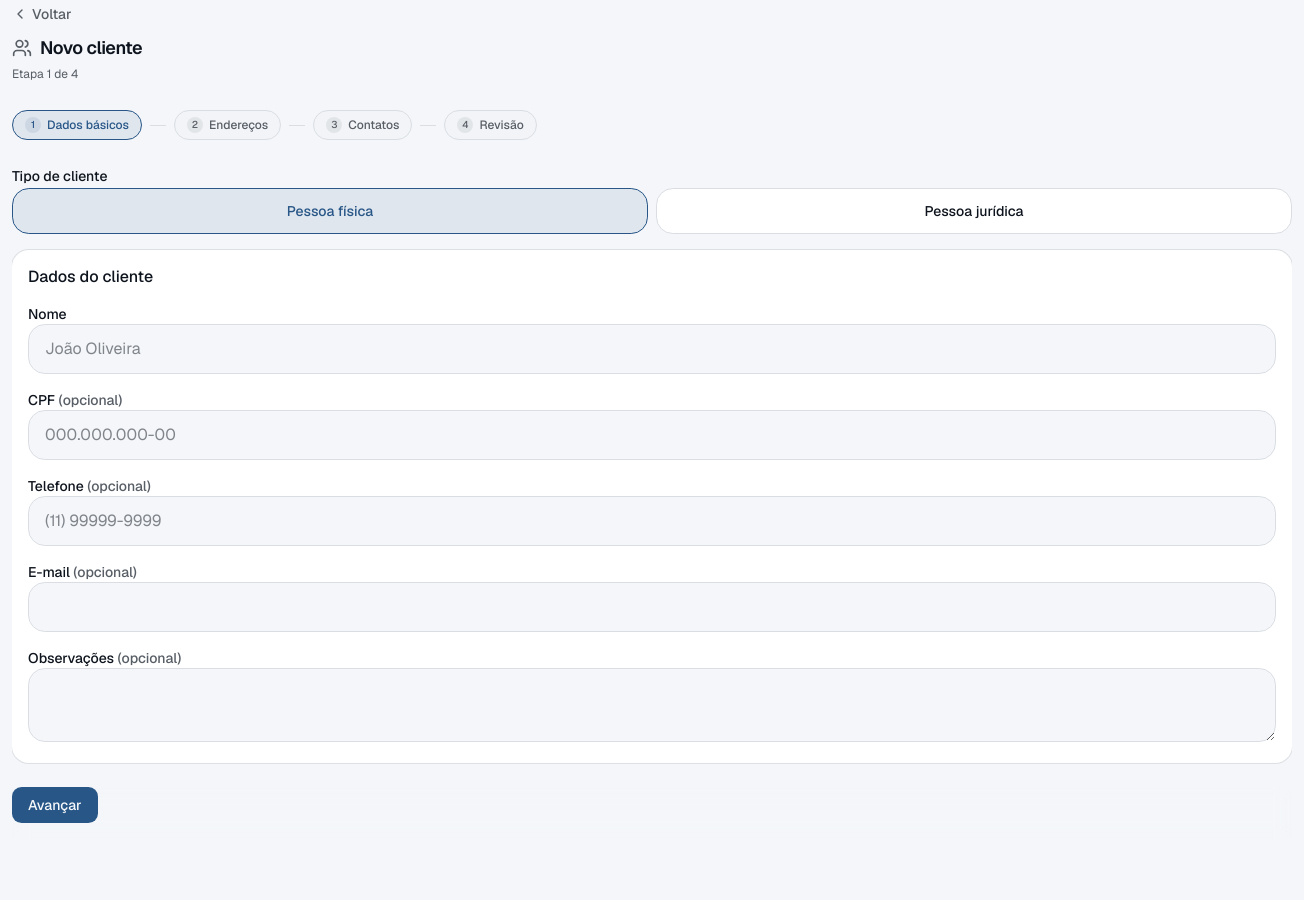
Test: CustomerCreateForm (4-step wizard) › step flow › a forward stepper-jump blocks on step 1 if name was cleared after visiting later steps
In the field labelled "Nome": (652, 349) [28, 324, 1276, 374], type "Maria Cliente"
Click the button "Avançar": (55, 805) [12, 787, 98, 823]
(page scrolled)
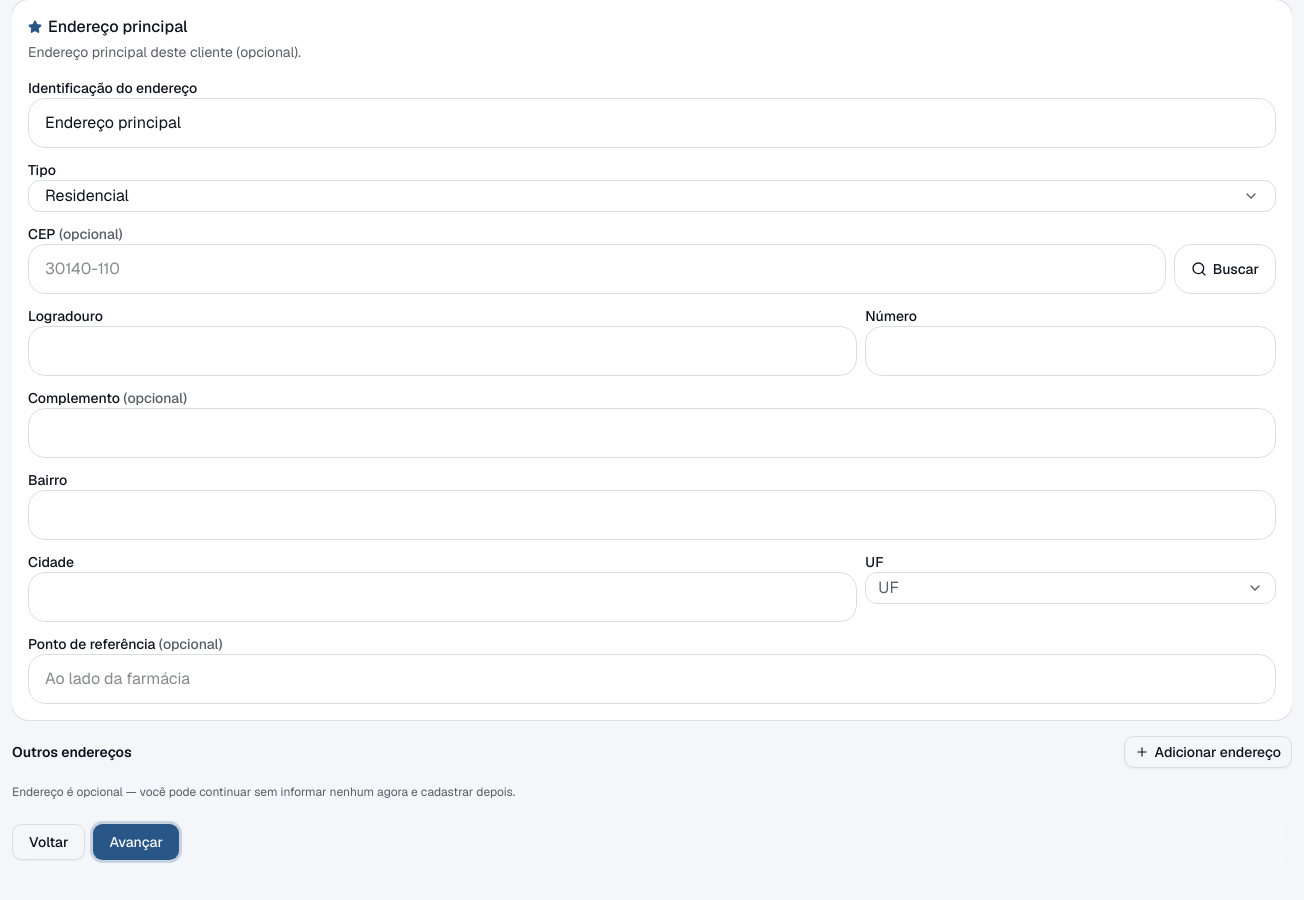
Click the button "Avançar": (136, 842) [94, 824, 179, 860]
(page scrolled)
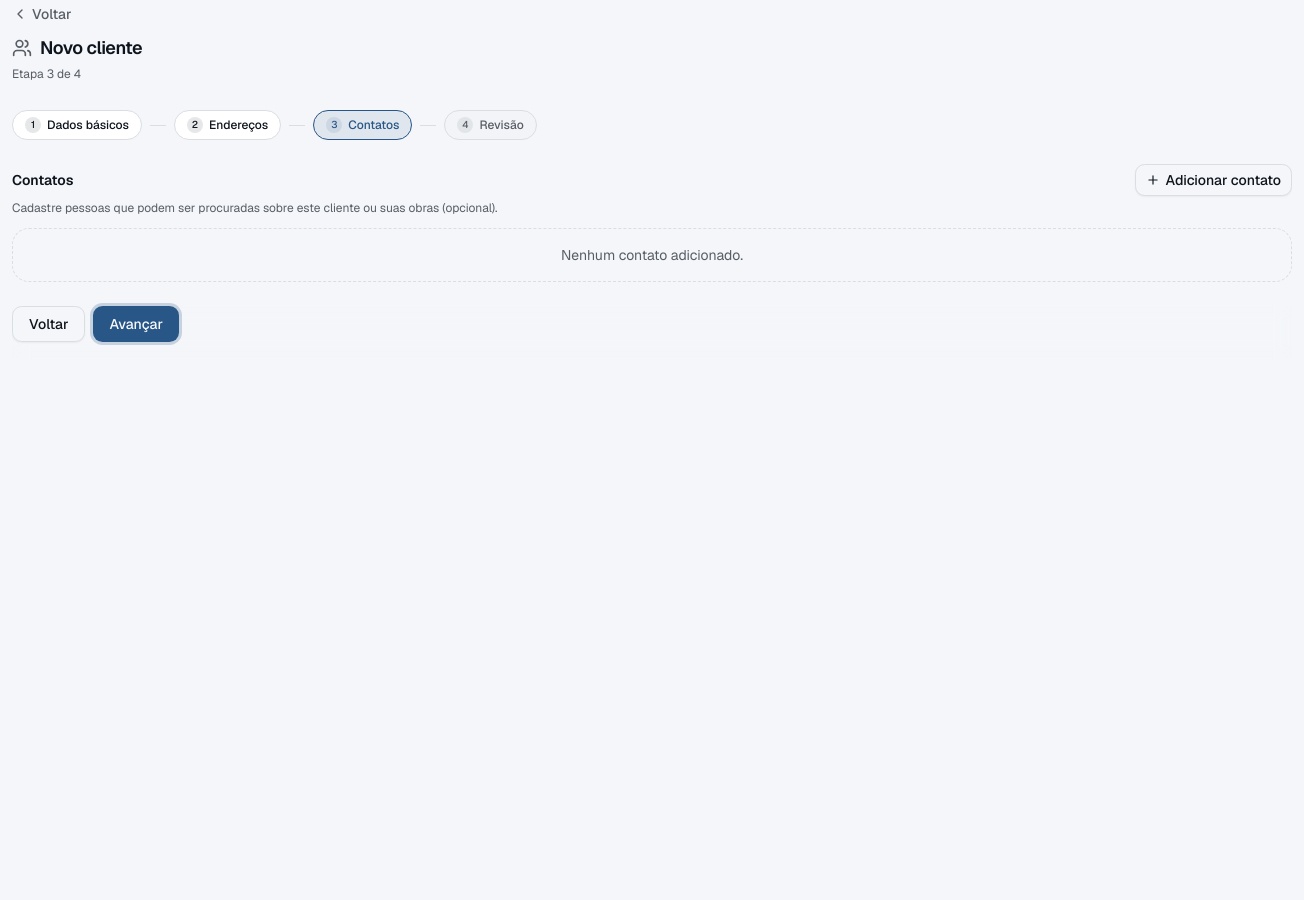
Click the button "Avançar": (136, 324) [94, 306, 179, 342]
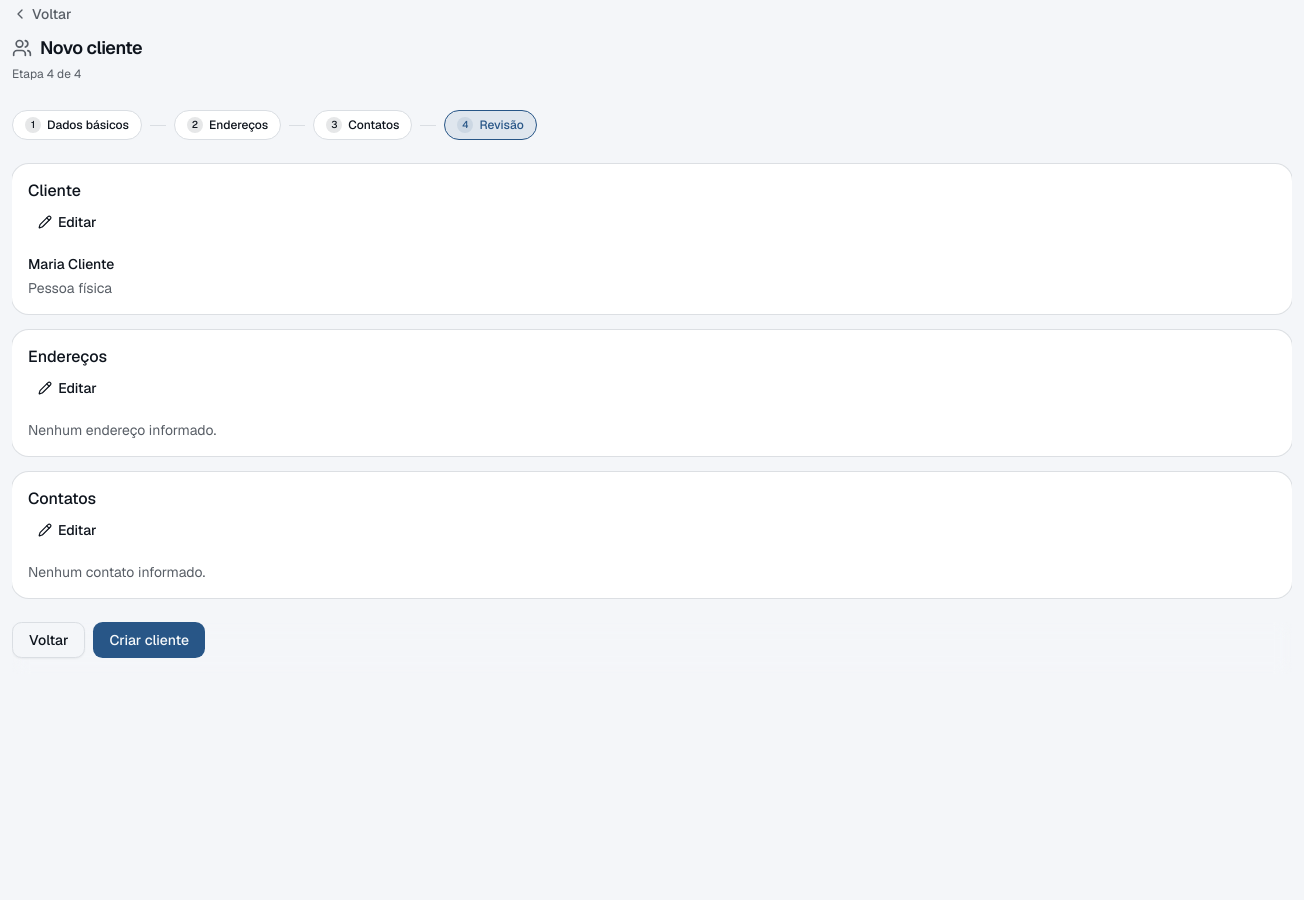
Click the button "1 Dados básicos": (77, 125) [12, 110, 142, 140]
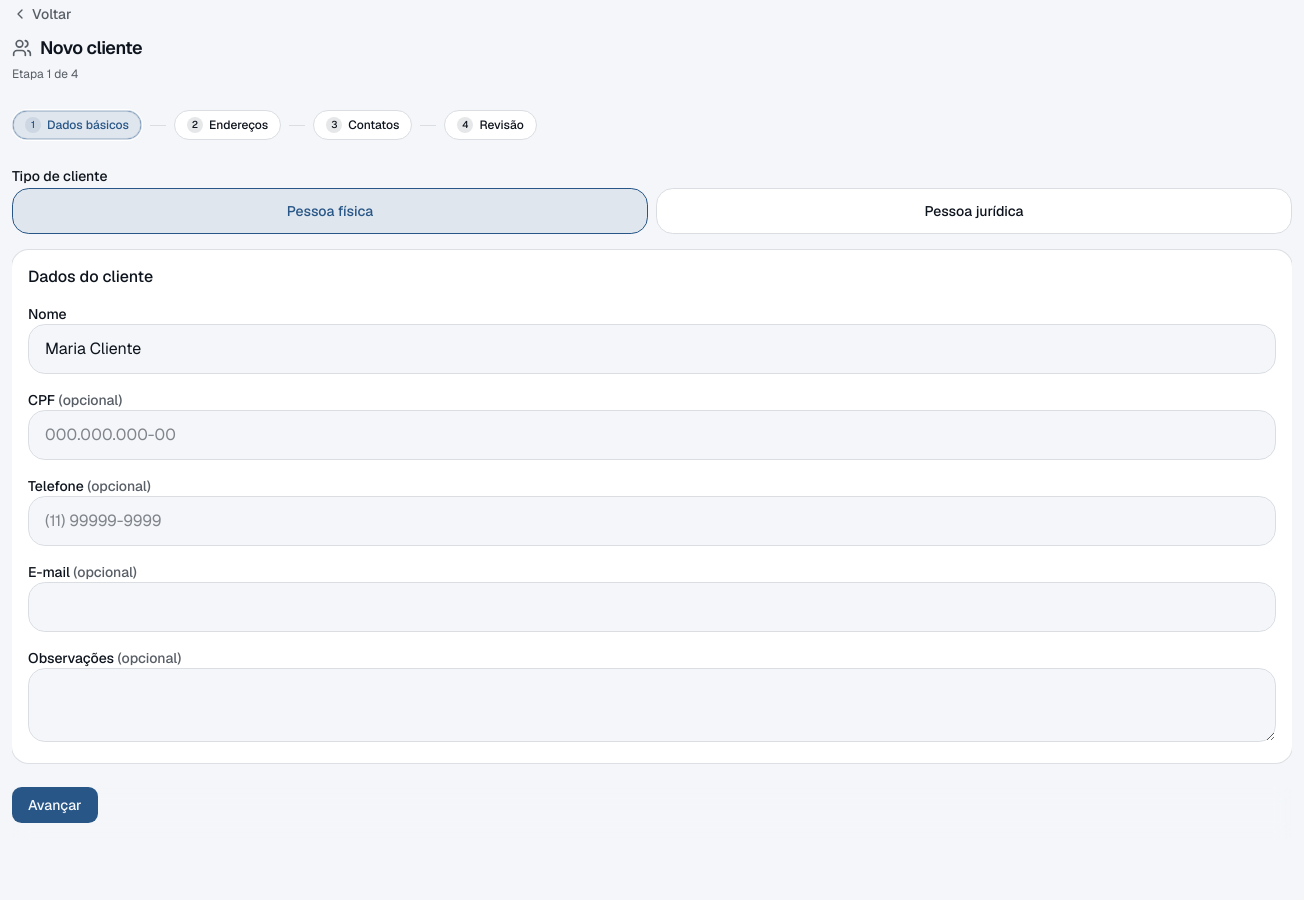
Clear the field labelled "Nome": (652, 349) [28, 324, 1276, 374]
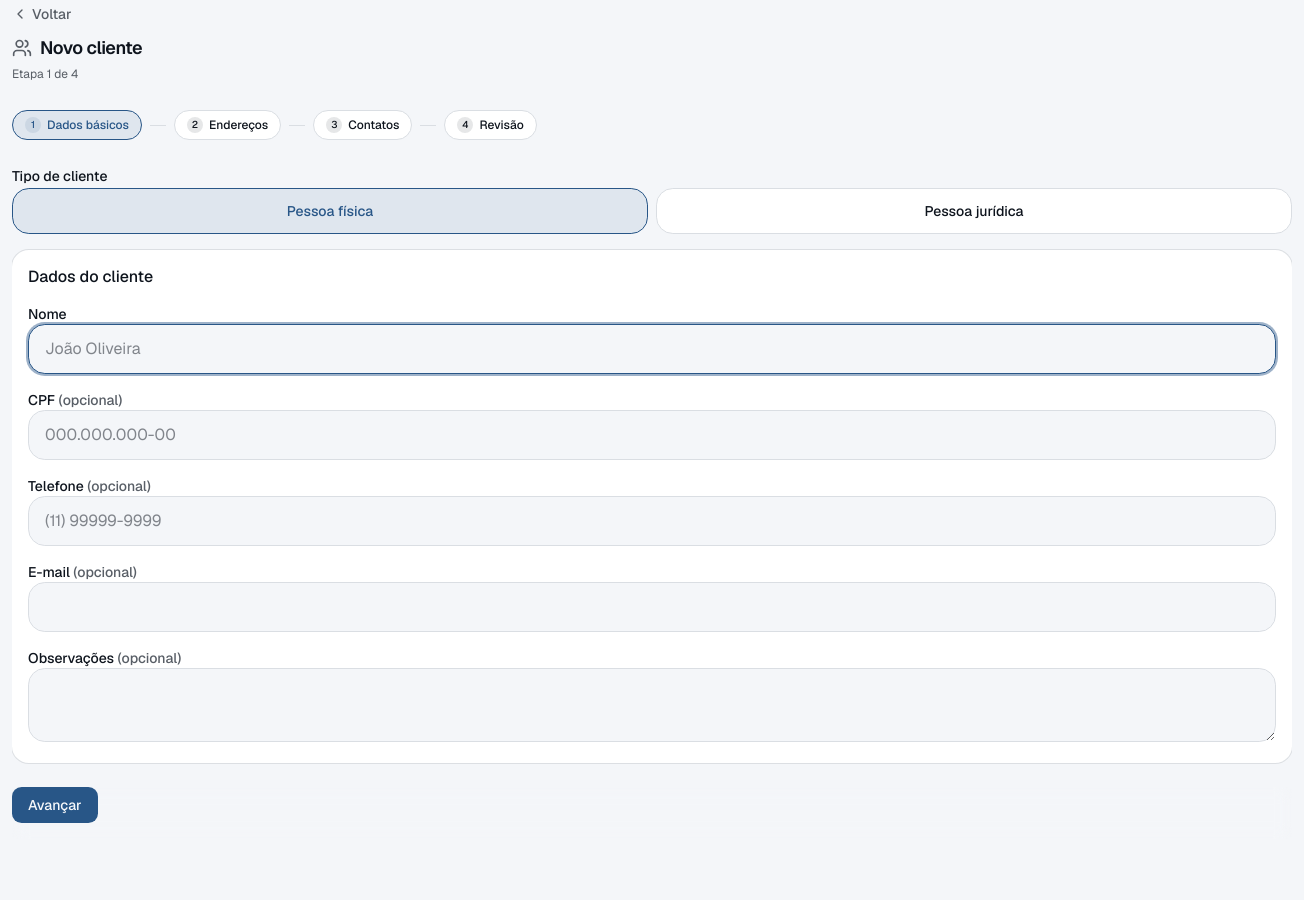
Click the button "4 Revisão": (491, 125) [444, 110, 537, 140]
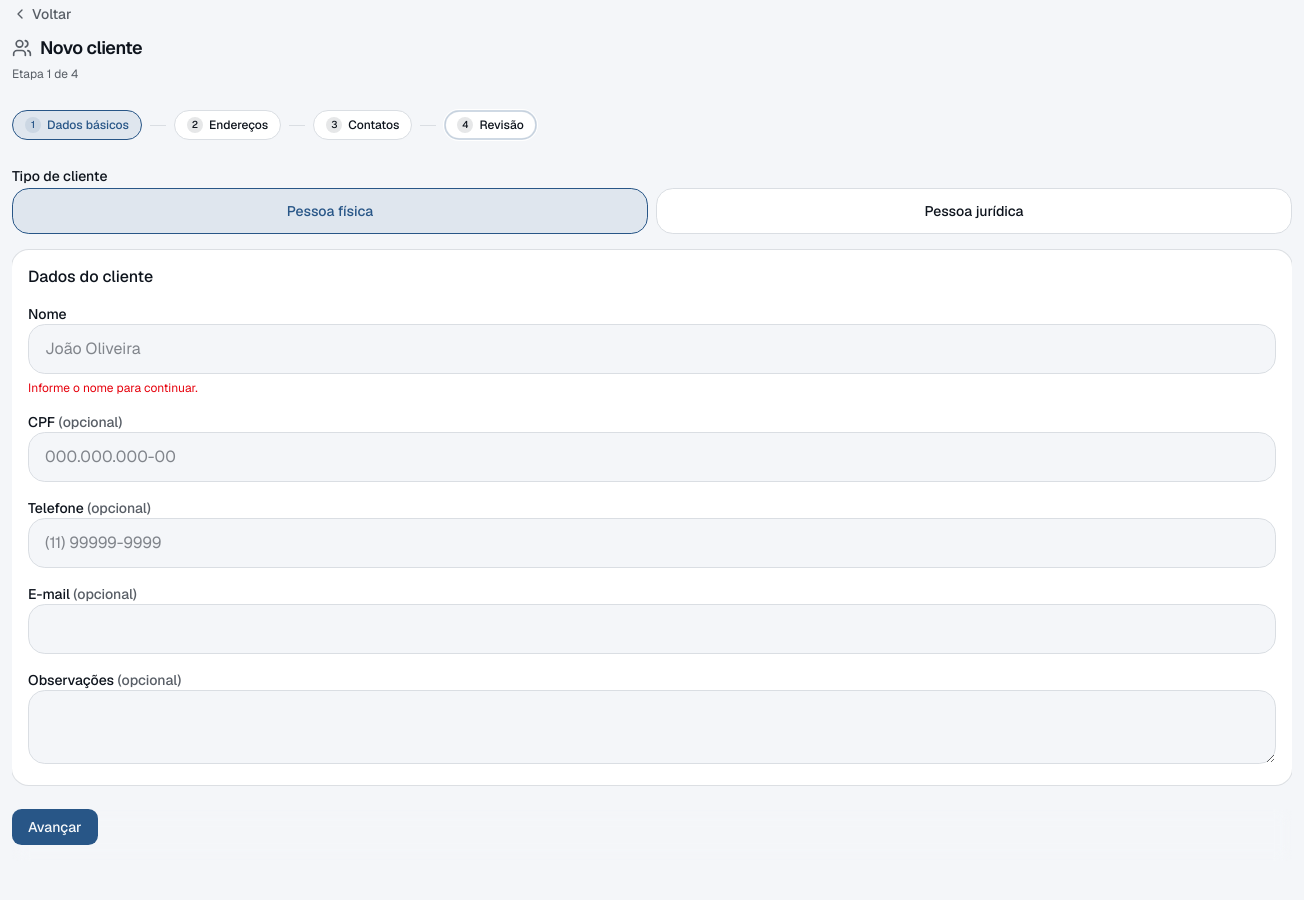
Expected: the text "Etapa 1 de 4" is shown, [12, 66, 78, 82]
Expected: the text "Informe o nome para continuar." is shown, [28, 380, 198, 396]
